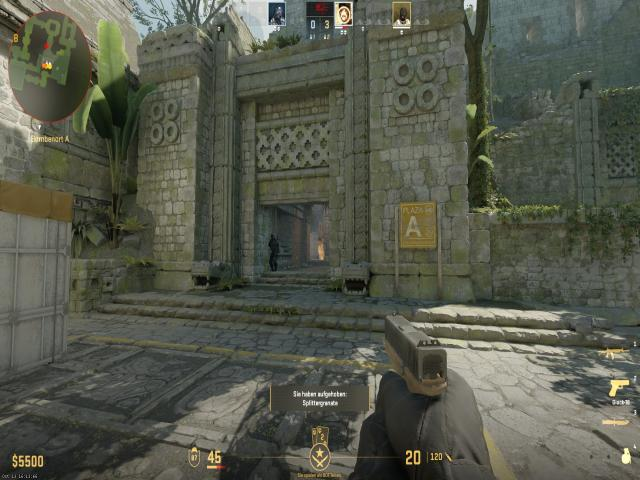CT: (268, 230, 279, 268)
CT-Head: (270, 231, 276, 242)
